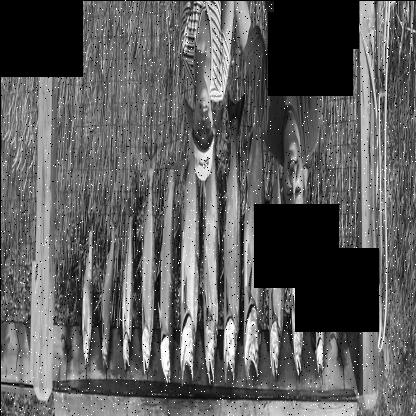fish: (242, 72, 269, 390), (198, 104, 224, 384), (222, 90, 245, 388), (179, 100, 202, 388), (286, 159, 310, 379), (157, 152, 179, 384), (266, 132, 284, 384), (140, 143, 156, 376), (101, 216, 118, 372), (121, 201, 135, 369), (80, 213, 94, 367), (313, 210, 325, 380)
